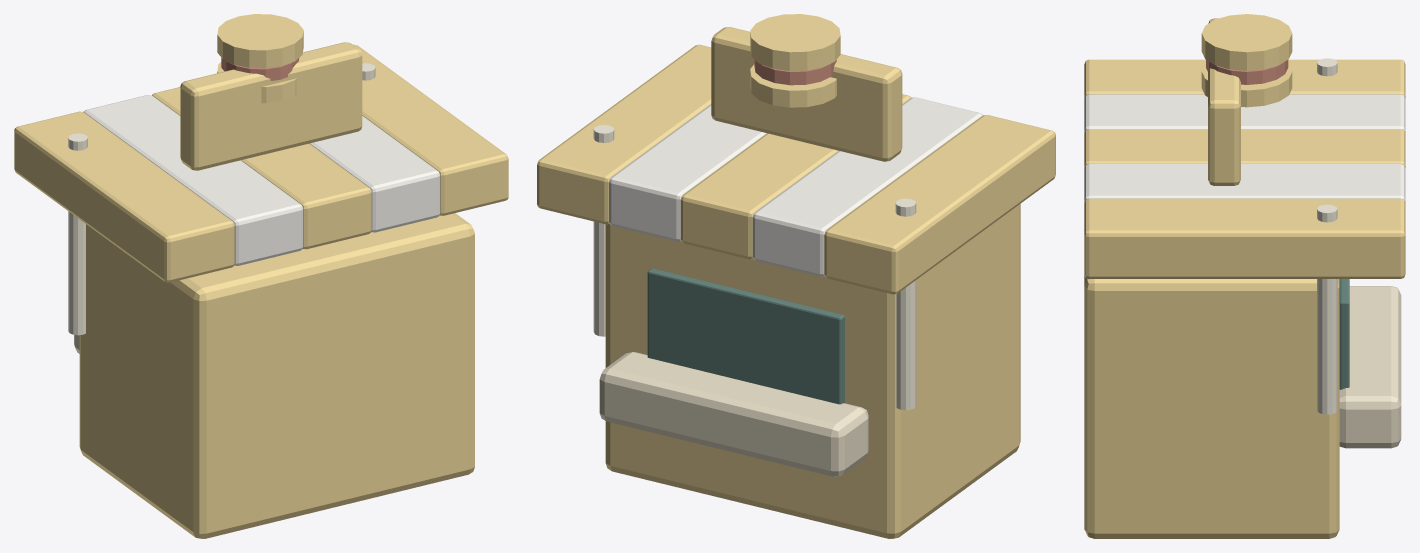
File: food_stand.glb
The picture shows the model from 3 angles, left to right: view 1: azimuth 30°, elevation 25°; view 2: azimuth 150°, elevation 25°; view 3: azimuth 270°, elevation 25°; orthographic projection. The views are drawn at different scales.
Parts seen in each view (by area): view 1: counter, awning_stripe_0, menu_sign, awning_stripe_1, awning_stripe_4, awning_stripe_2, awning_stripe_3, burger_bun_top, awning_post_-0.42, burger_bun_bottom, burger_patty; view 2: counter, awning_stripe_0, serving_counter, service_window, menu_sign, awning_stripe_1, awning_stripe_4, awning_stripe_3, awning_stripe_2, burger_bun_top, awning_post_-0.42, burger_bun_bottom (+2 smaller); view 3: counter, awning_stripe_4, awning_stripe_3, awning_stripe_2, awning_stripe_1, serving_counter, awning_stripe_0, burger_bun_top, menu_sign, awning_post_0.42, burger_bun_bottom, service_window (+1 smaller).
Boxes of the visible parts, <box> form: counter: <box>79,213,474,538</box>; awning_stripe_0: <box>14,111,234,282</box>; menu_sign: <box>180,42,362,170</box>; awning_stripe_1: <box>83,95,303,265</box>; awning_stripe_4: <box>353,44,508,215</box>; awning_stripe_2: <box>152,87,371,249</box>; awning_stripe_3: <box>309,116,440,232</box>; burger_bun_top: <box>217,14,303,68</box>; awning_post_-0.42: <box>68,133,87,335</box>; burger_bun_bottom: <box>217,62,296,103</box>; burger_patty: <box>221,58,299,80</box>; counter: <box>605,204,1020,538</box>; awning_stripe_0: <box>824,115,1055,294</box>; serving_counter: <box>599,352,868,476</box>; service_window: <box>647,268,844,404</box>; menu_sign: <box>711,27,902,161</box>; awning_stripe_1: <box>752,97,982,276</box>; awning_stripe_4: <box>537,44,711,224</box>; awning_stripe_3: <box>609,104,766,241</box>; awning_stripe_2: <box>680,94,911,259</box>; burger_bun_top: <box>750,14,840,70</box>; awning_post_-0.42: <box>895,198,916,410</box>; burger_bun_bottom: <box>750,64,836,107</box>; counter: <box>1084,275,1339,538</box>; awning_stripe_4: <box>1084,198,1405,278</box>; awning_stripe_3: <box>1084,164,1405,202</box>; awning_stripe_2: <box>1084,129,1405,167</box>; awning_stripe_1: <box>1084,94,1405,133</box>; serving_counter: <box>1339,286,1401,448</box>; awning_stripe_0: <box>1084,59,1405,98</box>; burger_bun_top: <box>1201,14,1292,70</box>; menu_sign: <box>1208,18,1240,185</box>; awning_post_0.42: <box>1317,204,1337,414</box>; burger_bun_bottom: <box>1201,64,1292,107</box>; service_window: <box>1339,279,1349,389</box>.
Size of the model in its own units: 1.01 by 1.17 by 0.78.
